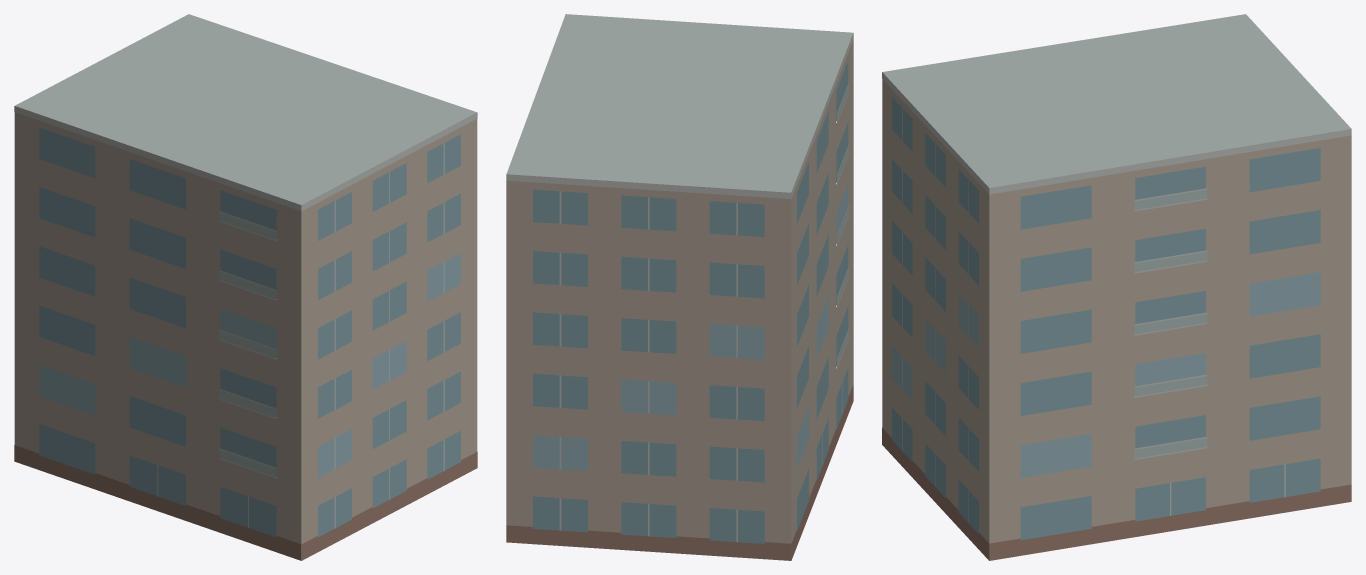
The model's file is survey-upis-32850612.glb.
The picture shows the model from 3 angles, left to right: view 1: azimuth 30°, elevation 25°; view 2: azimuth 150°, elevation 25°; view 3: azimuth 270°, elevation 25°; orthographic projection. The views are drawn at different scales.
Parts seen in each view (by area): view 1: survey-upis-32850612.tmp; view 2: survey-upis-32850612.tmp; view 3: survey-upis-32850612.tmp.
Boxes of the visible parts, x1,y1,x2,y2 form: survey-upis-32850612.tmp: (14,14,477,560); survey-upis-32850612.tmp: (506,14,853,560); survey-upis-32850612.tmp: (882,14,1351,560).
Size of the model in its own units: 14.13 by 14.1 by 16.11.
